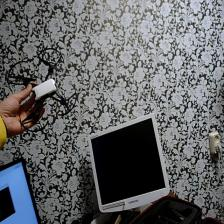drone: (6, 45, 82, 146)
